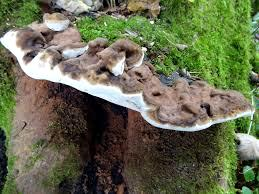Ganoderma - Fruit Body: (0, 19, 258, 135)
